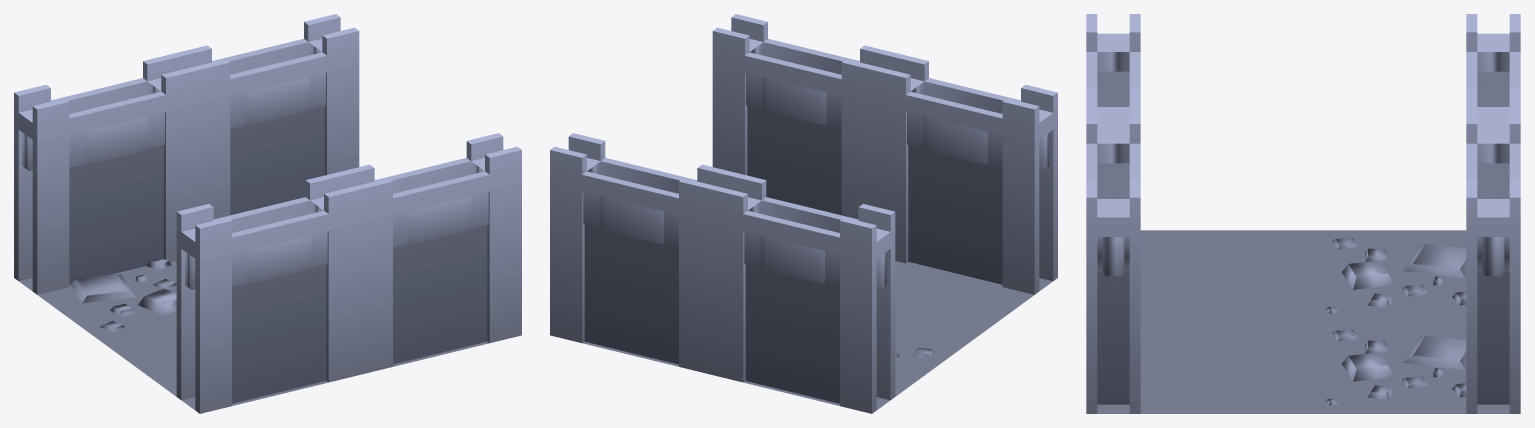
File: tile_5.glb
3 renders of one model, left to right at view 1: azimuth 30°, elevation 25°; view 2: azimuth 150°, elevation 25°; view 3: azimuth 270°, elevation 25°, orthographic. The views are drawn at different scales.
Visible parts, largest first — view 1: wall5; view 2: wall5; view 3: wall5.
Part boxes in pixels (<box>): wall5: <box>14,14,521,413</box>; wall5: <box>550,14,1057,413</box>; wall5: <box>1086,14,1520,413</box>.
Bounding box in the file's own units: 2 × 1.1 × 2.
8 materials, 8 textured.
